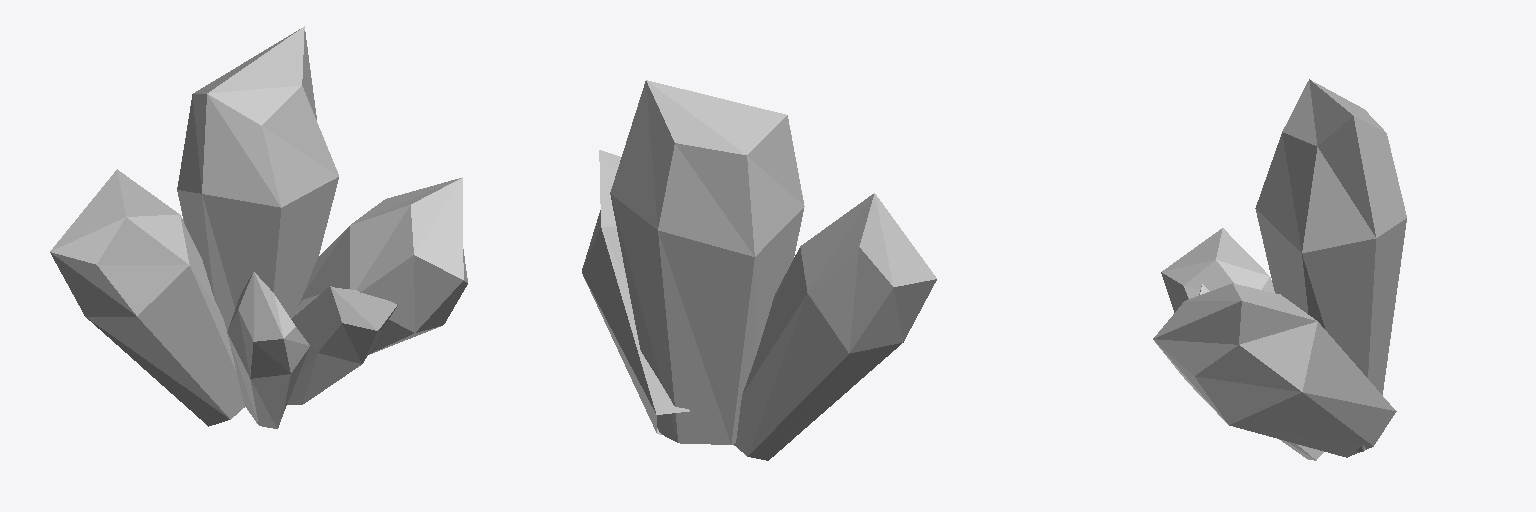
File: crystals.obj
The picture shows the model from 3 angles: view 1: azimuth 30°, elevation 25°; view 2: azimuth 150°, elevation 25°; view 3: azimuth 270°, elevation 25°; orthographic projection.
Parts seen in each view (by area): view 1: Crystal; view 2: Crystal; view 3: Crystal.
Boxes of the visible parts, <box> form: Crystal: <box>50,26,467,428</box>; Crystal: <box>582,80,936,460</box>; Crystal: <box>1153,79,1406,460</box>.
Bounding box in the file's own units: 1.16 × 1.07 × 0.6777.